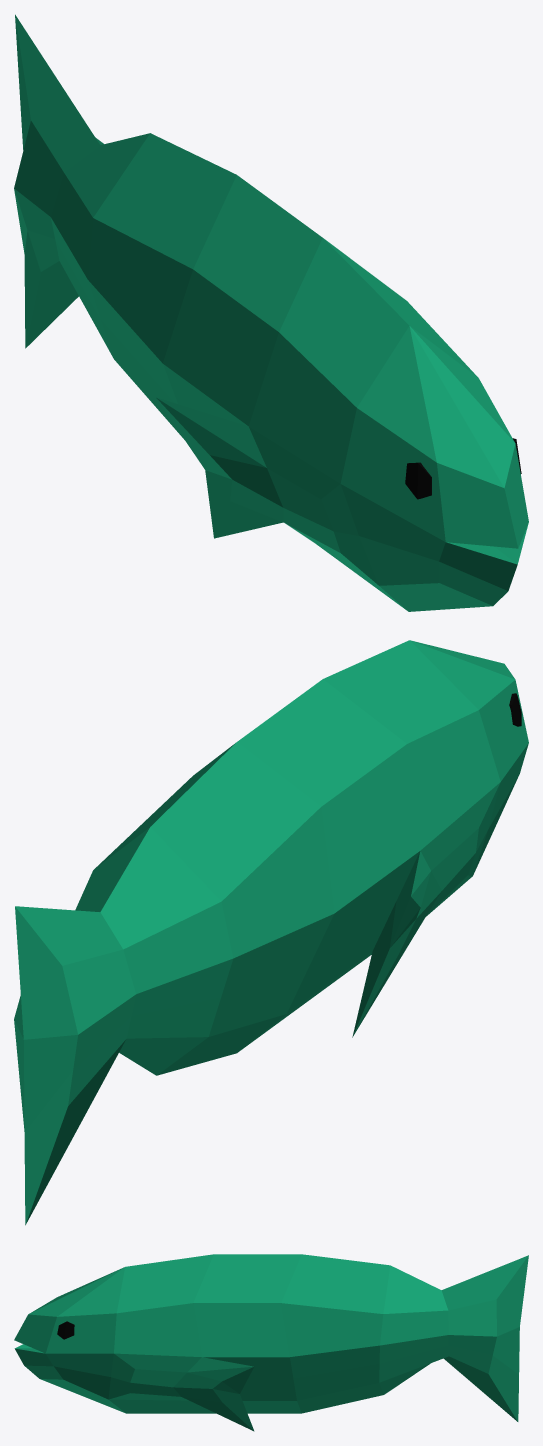
File: fish-2.fbx
3 renders of one model, top to bottom at view 1: azimuth 30°, elevation 25°; view 2: azimuth 150°, elevation 25°; view 3: azimuth 270°, elevation 25°, orthographic. The views are drawn at different scales.
Parts seen in each view (by area): view 1: Cube; view 2: Cube; view 3: Cube.
Part boxes in pixels (<box>): Cube: <box>14,14,528,611</box>; Cube: <box>14,640,528,1225</box>; Cube: <box>14,1254,528,1431</box>.
Bounding box in the file's own units: 172 × 211 × 586.
